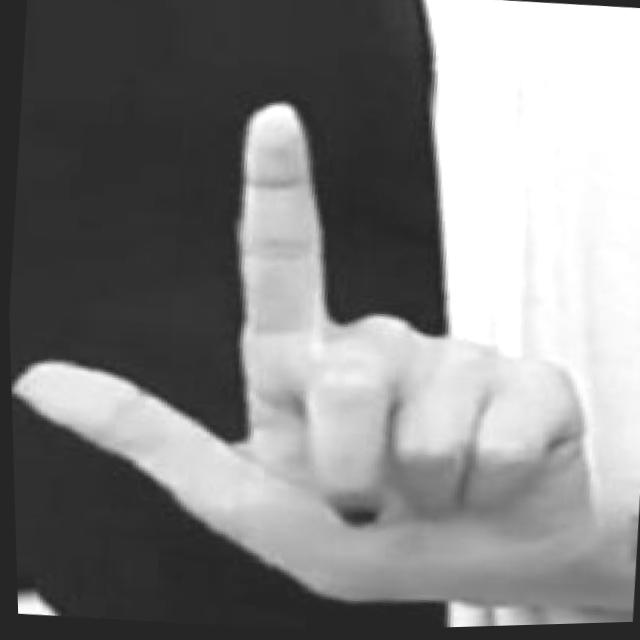L: (2, 60, 640, 637)
